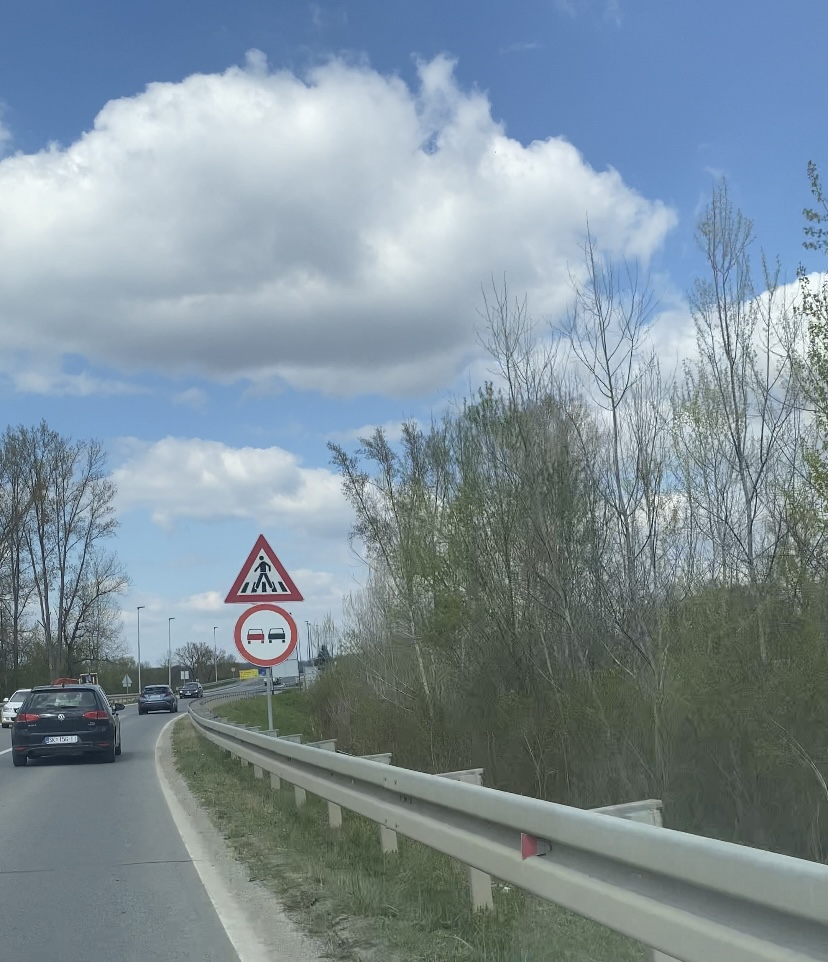Približavanje pješačkom prijelazu: (224, 534, 305, 602)
Zabrana pretjecanja: (234, 604, 298, 667)
